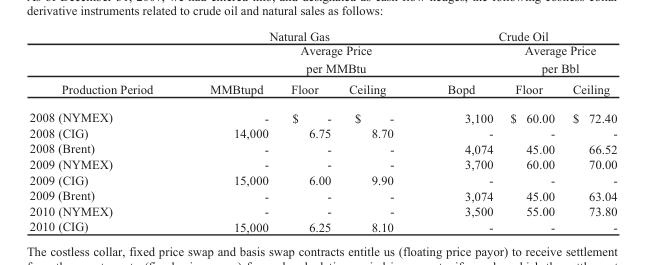table: (28, 28, 616, 233)
table column: (28, 28, 180, 233), (180, 28, 279, 233), (339, 28, 420, 233), (420, 28, 501, 233), (501, 28, 563, 233), (279, 28, 339, 233), (563, 28, 616, 233)
table column header: (28, 28, 616, 102)
table row: (28, 42, 616, 78), (28, 78, 616, 102), (28, 102, 616, 125), (28, 140, 616, 156), (28, 171, 616, 187), (28, 187, 616, 203), (28, 125, 616, 140), (28, 156, 616, 171), (28, 203, 616, 218), (28, 218, 616, 233), (28, 28, 616, 42)
table spanning cell: (28, 28, 180, 102), (180, 42, 279, 102), (279, 42, 420, 78), (420, 42, 501, 102), (501, 42, 616, 78), (180, 28, 420, 42), (420, 28, 616, 42)
